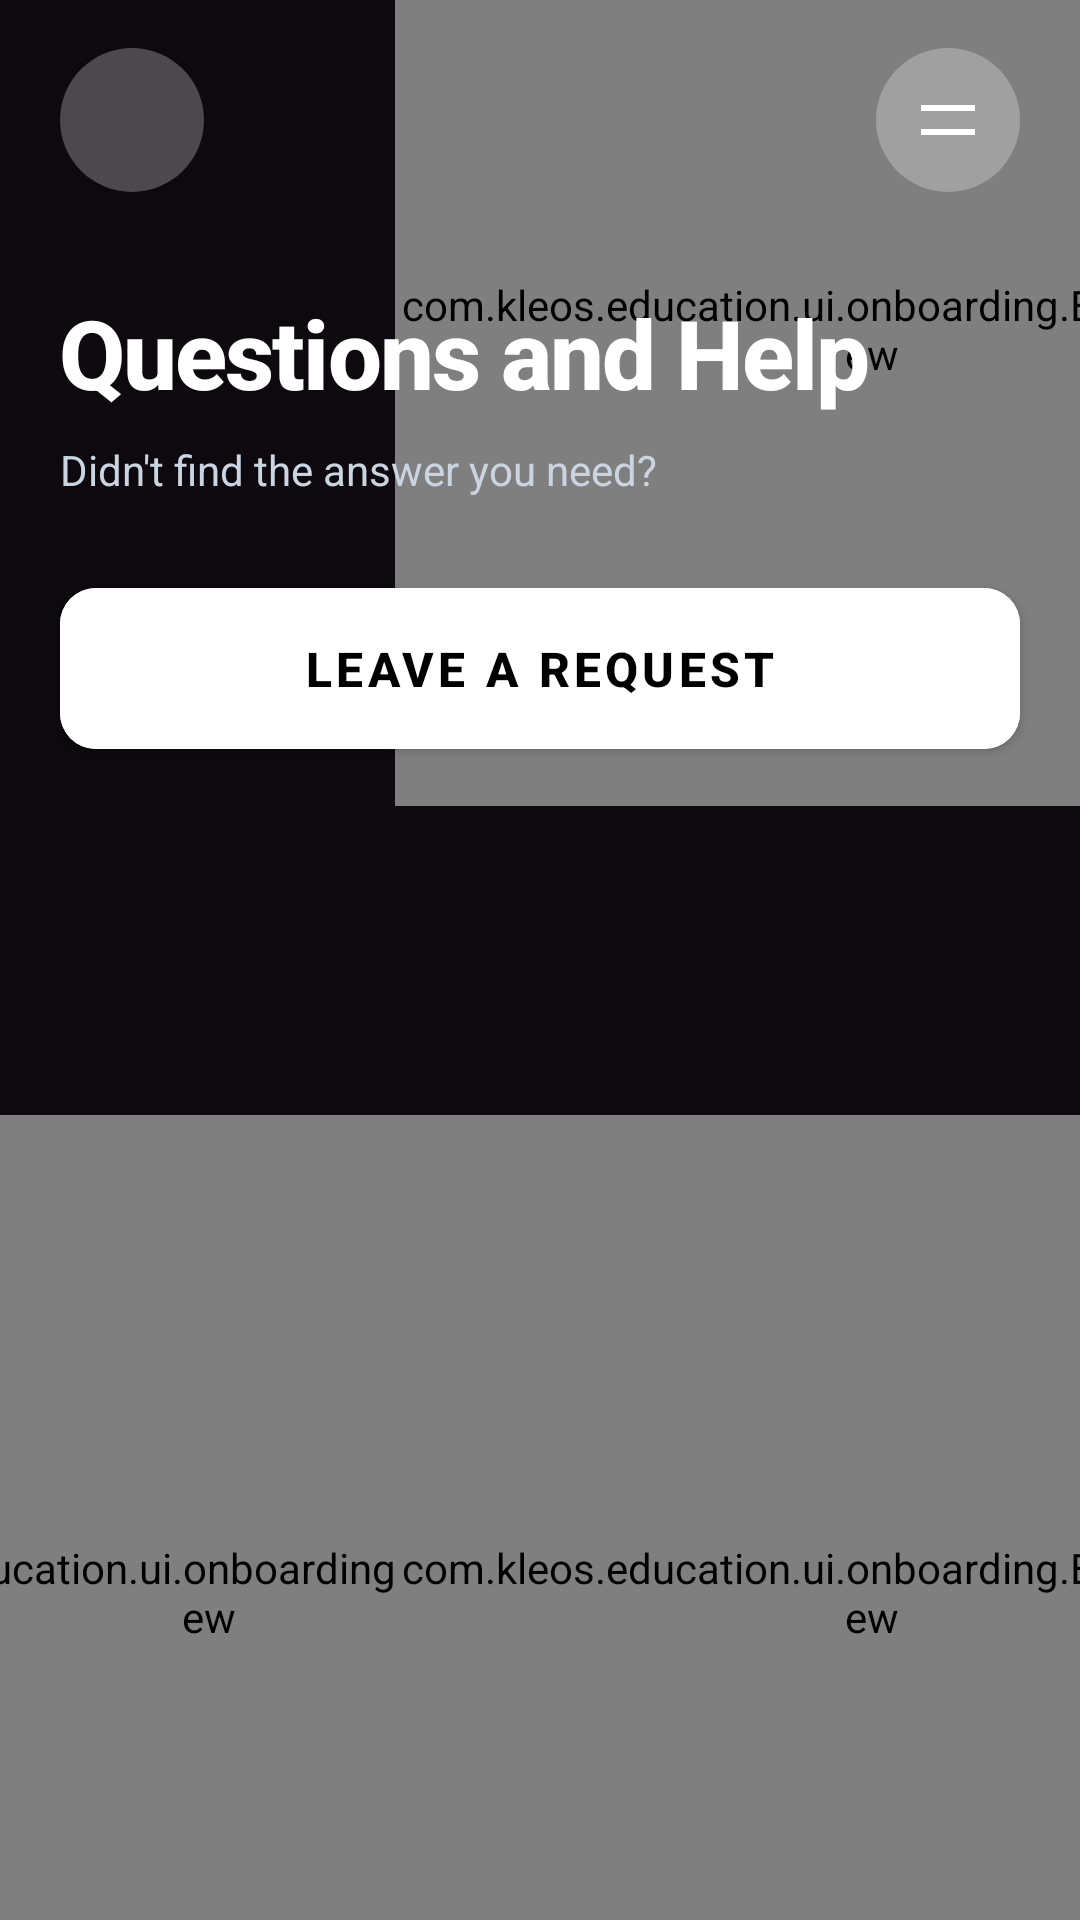

Named icons in this screenshot (1080px x 1920px) and their bounding boxes, (x1, y1, x2, y2):
Menu: (876, 48, 1020, 192)
